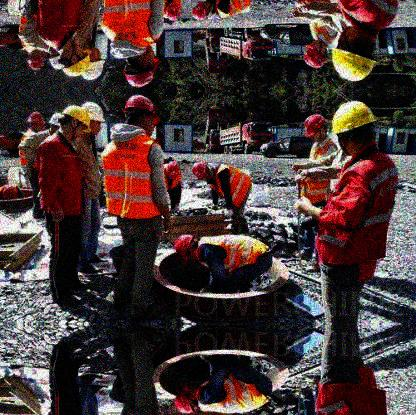helmet: (331, 99, 377, 156), (331, 26, 376, 84), (123, 45, 164, 88), (123, 95, 162, 136), (62, 43, 92, 79), (62, 104, 90, 140), (173, 233, 202, 265), (175, 384, 202, 415), (81, 102, 107, 134), (81, 45, 104, 79), (303, 37, 328, 68), (303, 113, 327, 142), (27, 113, 48, 133), (191, 161, 212, 181), (191, 1, 213, 20), (28, 49, 46, 72)
